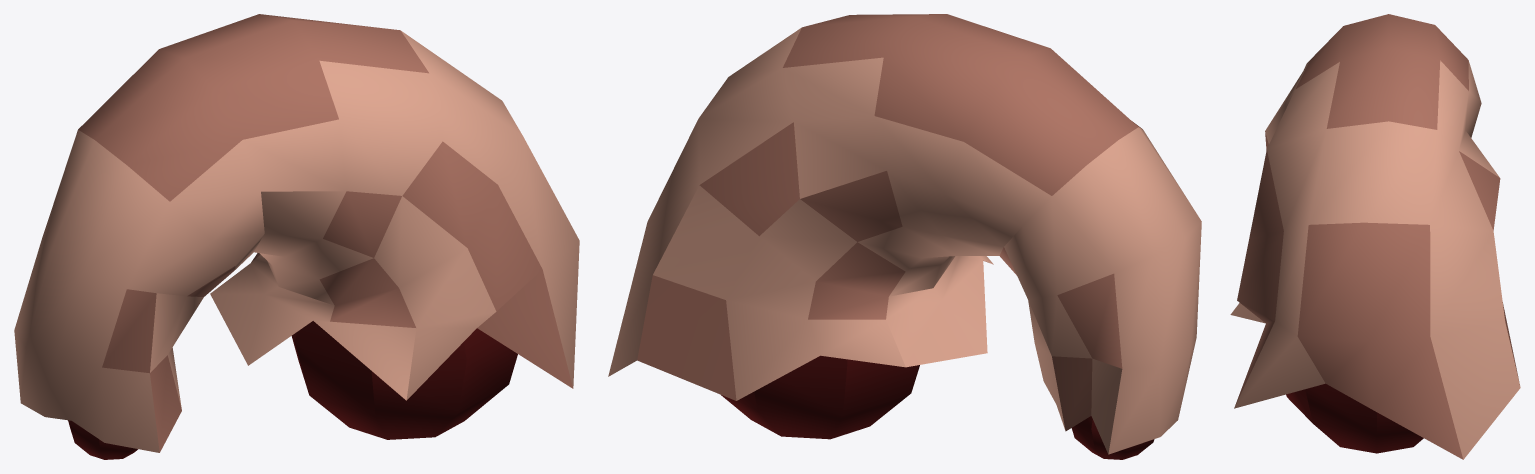
Rendered from organ_stomach.glb.
3 renders of one model, left to right at view 1: azimuth 30°, elevation 25°; view 2: azimuth 150°, elevation 25°; view 3: azimuth 270°, elevation 25°, orthographic. The views are drawn at different scales.
Parts seen in each view (by area): view 1: organ_stomach; view 2: organ_stomach; view 3: organ_stomach.
Part boxes in pixels (x1,y1,x2,y2): organ_stomach: [14, 14, 579, 459]; organ_stomach: [608, 14, 1201, 459]; organ_stomach: [1230, 14, 1520, 459].
Bounding box in the file's own units: 0.113 × 0.0895 × 0.0664.
